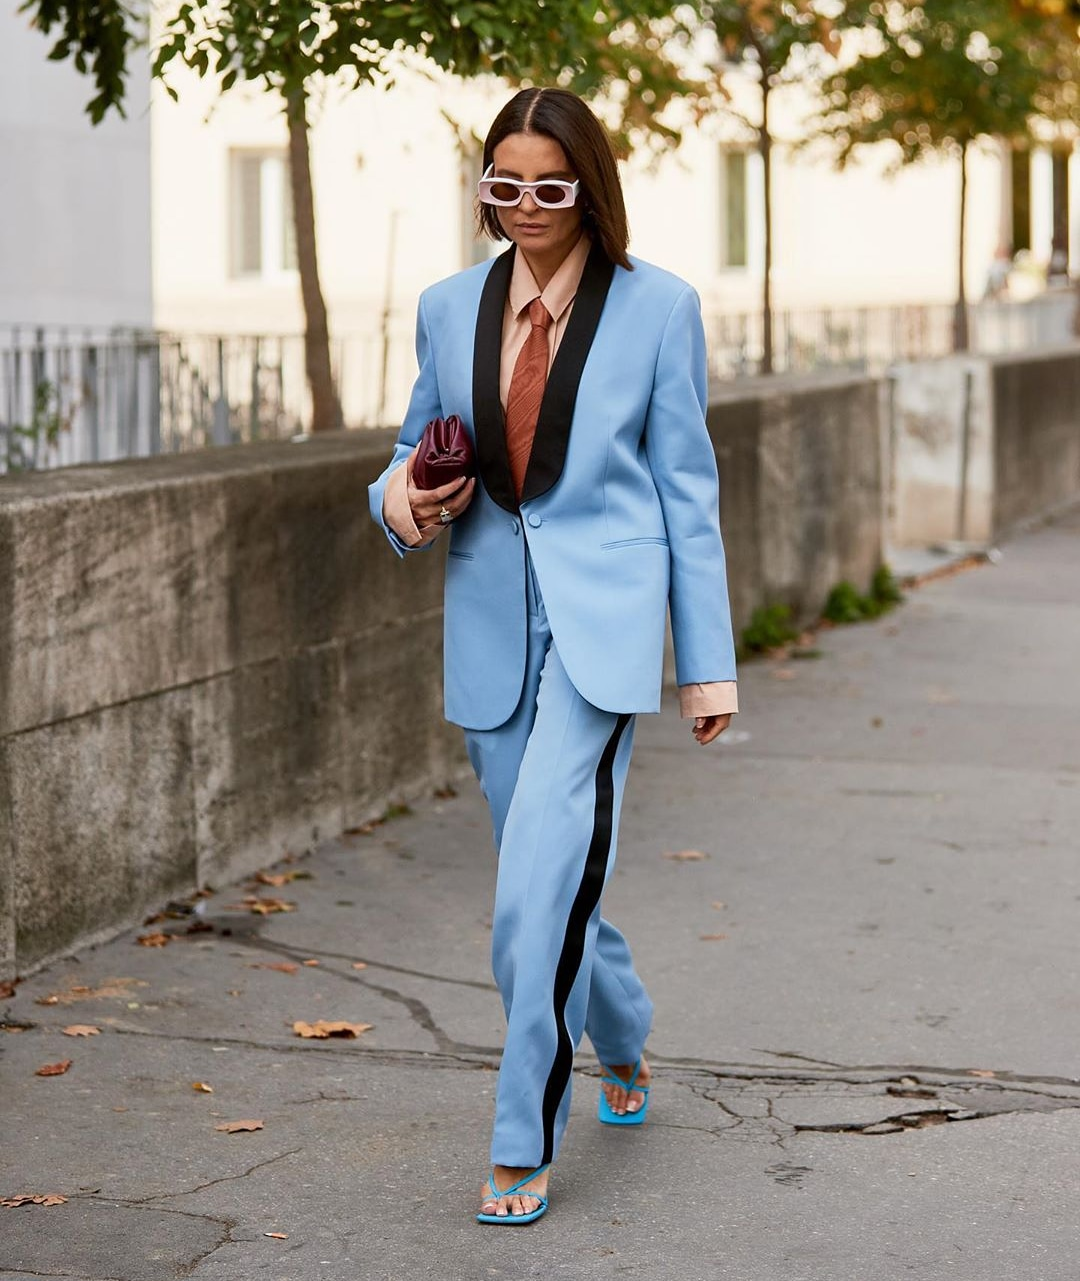glasses: (464, 163, 591, 221)
tie: (491, 287, 566, 498)
